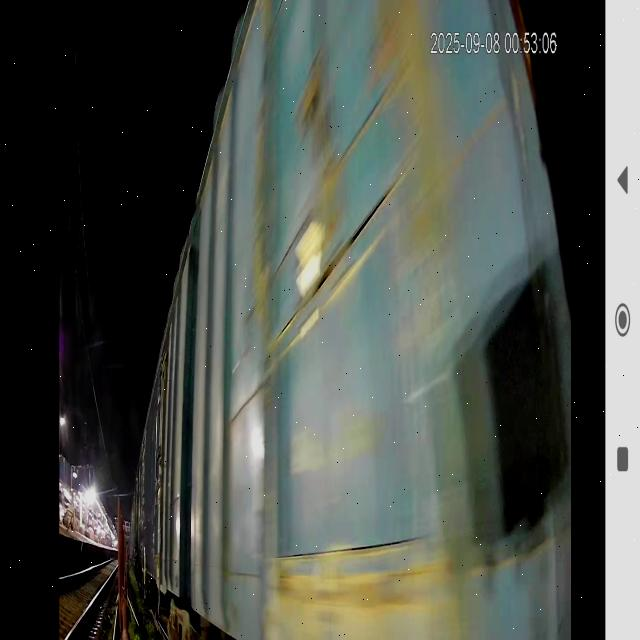coach: (202, 0, 566, 640)
